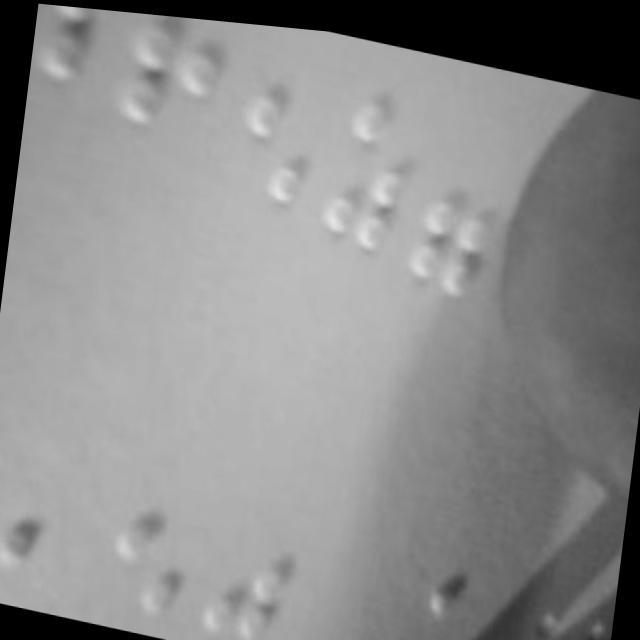braiile: (316, 52, 430, 269), (221, 17, 336, 212), (402, 112, 510, 312), (100, 454, 209, 630), (113, 9, 236, 152), (192, 492, 292, 640), (0, 425, 88, 590), (27, 2, 111, 94)
